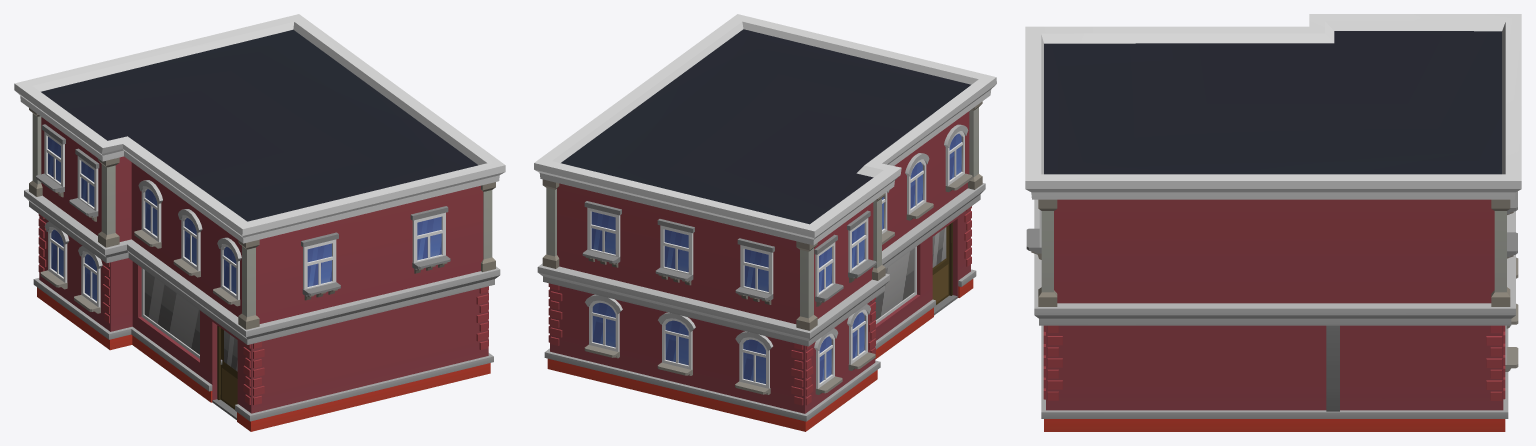
File: Building_1_2_H.fbx
The picture shows the model from 3 angles, left to right: view 1: azimuth 30°, elevation 25°; view 2: azimuth 150°, elevation 25°; view 3: azimuth 270°, elevation 25°; orthographic projection. The views are drawn at different scales.
Visible parts, largest first — view 1: Building_1_2_H; view 2: Building_1_2_H; view 3: Building_1_2_H.
Part boxes in pixels (box(x1,y1,x2,y2)): Building_1_2_H: box(14, 14, 505, 431); Building_1_2_H: box(534, 14, 996, 431); Building_1_2_H: box(1025, 14, 1521, 431).
Bounding box in the file's own units: 841 × 600 × 1057.
